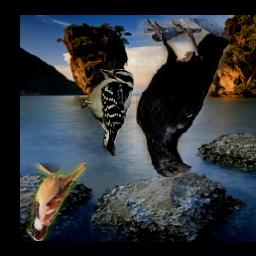Crow: (136, 19, 229, 178)
Sparrow: (26, 163, 85, 241)
Woodpecker: (75, 67, 136, 157)
